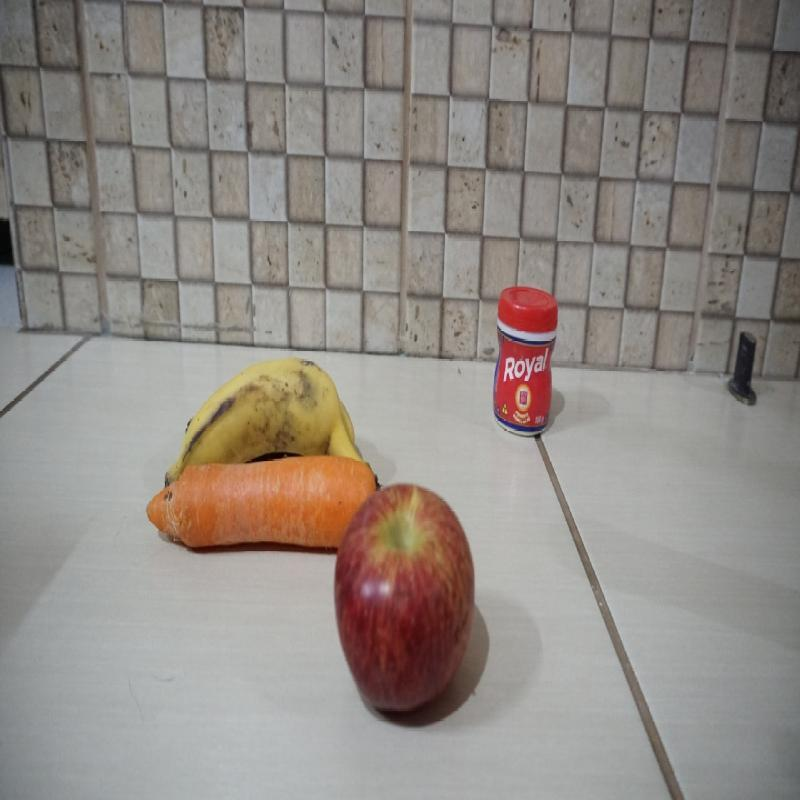Apple: (335, 481, 478, 710)
Banana: (163, 361, 367, 451)
Carrot: (149, 455, 336, 548)
Yeast: (491, 285, 557, 435)
